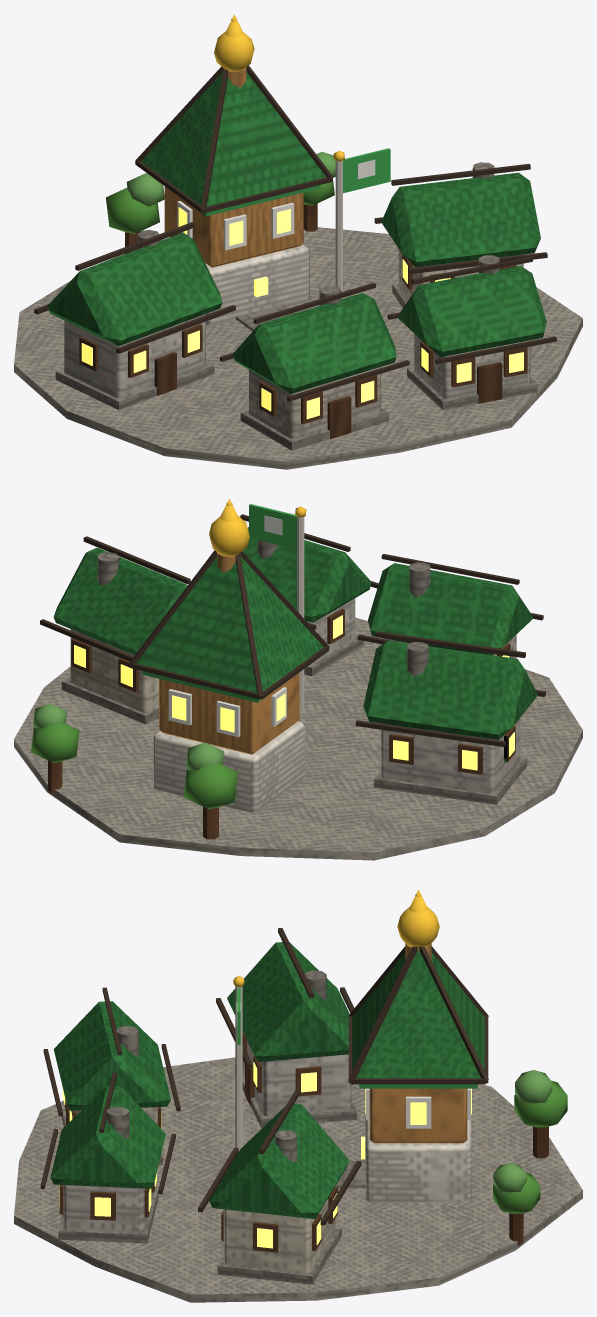
The model's file is city_dl3_green.glb.
3 renders of one model, top to bottom at view 1: azimuth 30°, elevation 25°; view 2: azimuth 150°, elevation 25°; view 3: azimuth 270°, elevation 25°, orthographic. The views are drawn at different scales.
Visible parts, largest first — view 1: city_dl3_green; view 2: city_dl3_green; view 3: city_dl3_green.
Boxes of the visible parts, box(x1,y1,x2,y2) form: city_dl3_green: box(14, 14, 582, 469); city_dl3_green: box(14, 499, 582, 860); city_dl3_green: box(14, 889, 582, 1302).
Bounding box in the file's own units: 1.39 × 0.7971 × 1.39.
Materials: 2 (1 with a texture image).
